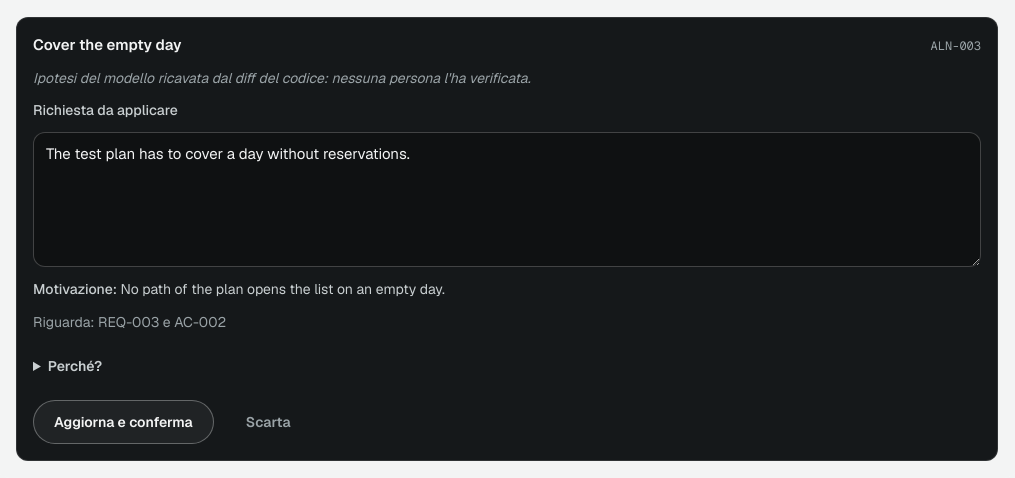
AlignmentProposalsNotice › applies a proposal of the tests without differences in it
The width and height of the screenshot is (1015, 478).
Click the button with test id "alignment-proposal-apply" at (123, 422), box [33,400,214,444]
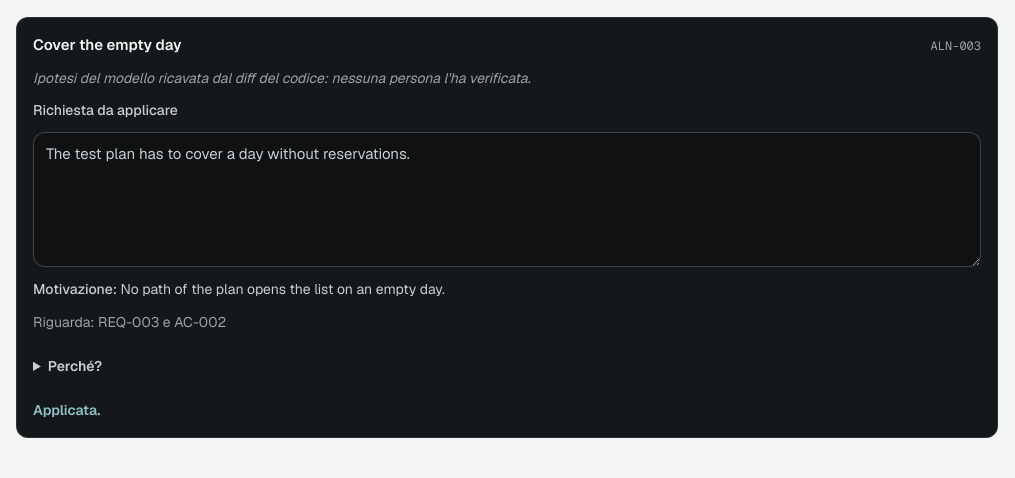
Now the message with test id "alignment-proposal-state" reads "Applicata.", box [33,400,100,418]
